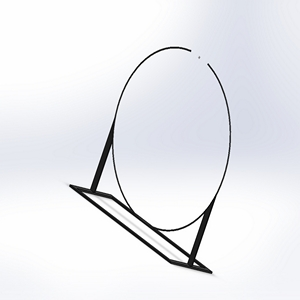circle: (68, 42, 237, 274)
